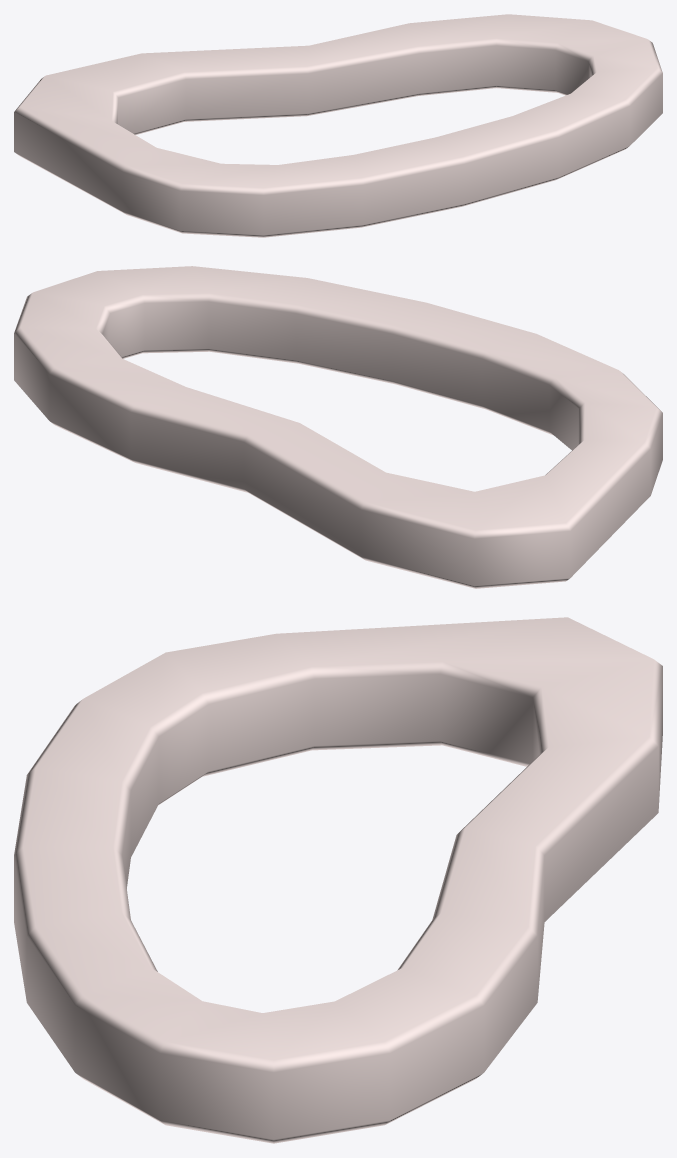
File: Squid_2_Ring_2.fbx
3 renders of one model, top to bottom at view 1: azimuth 30°, elevation 25°; view 2: azimuth 150°, elevation 25°; view 3: azimuth 270°, elevation 25°, orthographic. The views are drawn at different scales.
Parts seen in each view (by area): view 1: Squid_2_Ring_2; view 2: Squid_2_Ring_2; view 3: Squid_2_Ring_2.
Part boxes in pixels (x1,y1,x2,y2): Squid_2_Ring_2: (14,14,662,237); Squid_2_Ring_2: (14,266,662,588); Squid_2_Ring_2: (14,617,662,1143).
Size of the model in its own units: 11.96 by 1.03 by 7.27.
